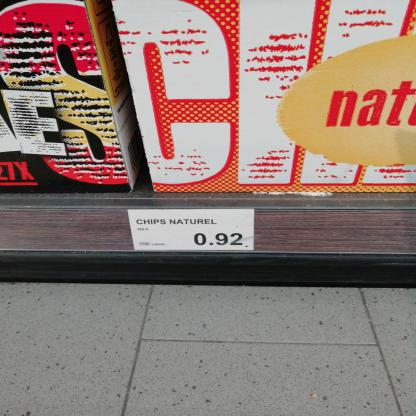prtg: (128, 210, 255, 251)
